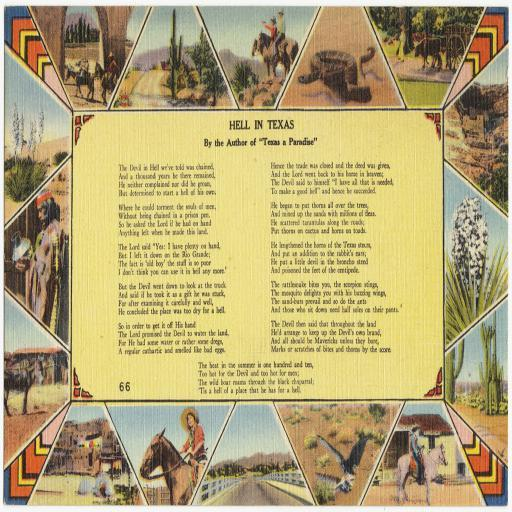Horse: (138, 428, 207, 508), (396, 443, 448, 508), (256, 31, 299, 81), (252, 39, 292, 84), (93, 60, 118, 105), (64, 66, 94, 101)
